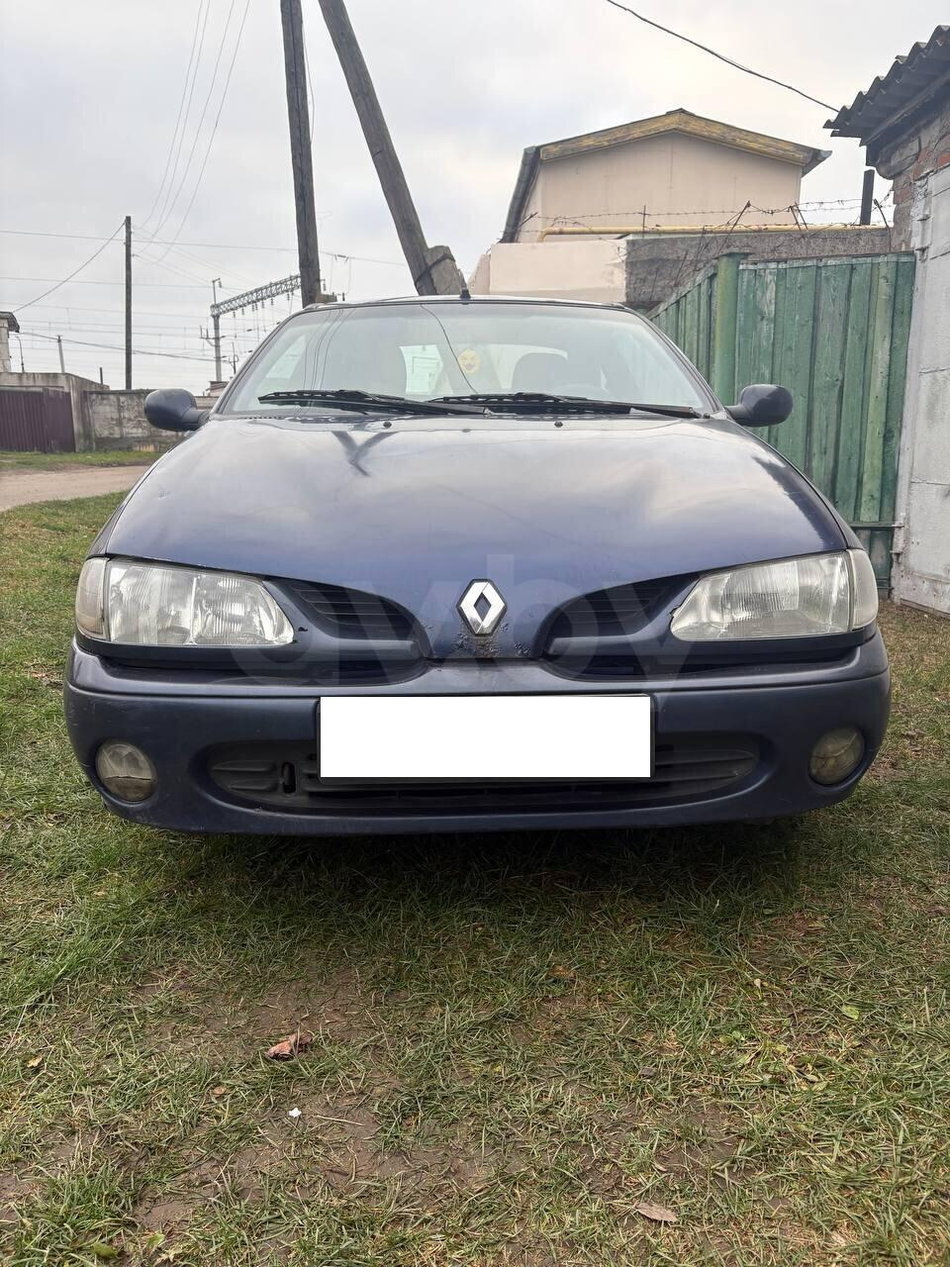Megane_1995-1999: (64, 284, 894, 902)
